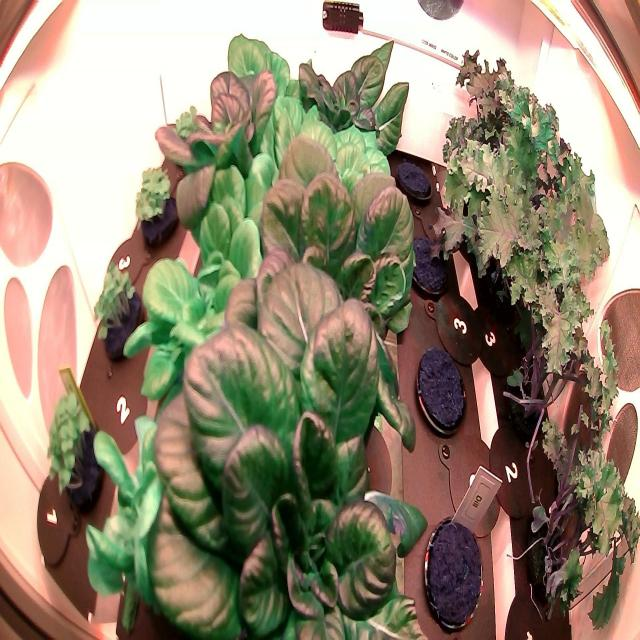Ready: (134, 237, 434, 640), (224, 130, 420, 441), (153, 62, 280, 257), (274, 31, 416, 170)
germination: (38, 386, 109, 528), (90, 253, 146, 372), (130, 159, 182, 259)
pod: (418, 514, 487, 640), (410, 332, 470, 454), (403, 221, 453, 310), (393, 148, 436, 208)
young: (122, 210, 260, 426), (82, 408, 169, 619), (212, 101, 398, 197), (214, 27, 293, 133)
